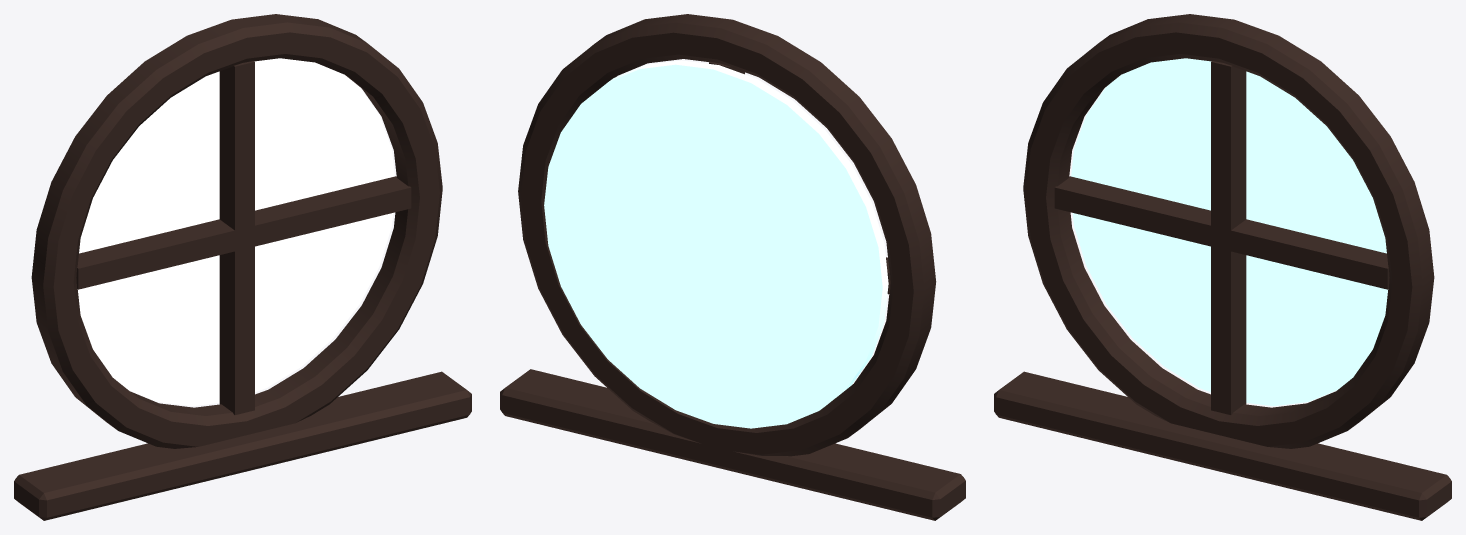
The model's file is ghost_window.glb.
3 views of the same model, side by side, from view 1: azimuth 30°, elevation 25°; view 2: azimuth 150°, elevation 25°; view 3: azimuth 330°, elevation 25° (orthographic).
Visible parts, largest first — view 1: ghost_window; view 2: ghost_window; view 3: ghost_window.
Part boxes in pixels (box(x1,y1,x2,y2)): ghost_window: box(14, 14, 471, 520); ghost_window: box(500, 14, 965, 520); ghost_window: box(994, 14, 1451, 520).
Size of the model in its own units: 1.3 by 1.24 by 0.18.
